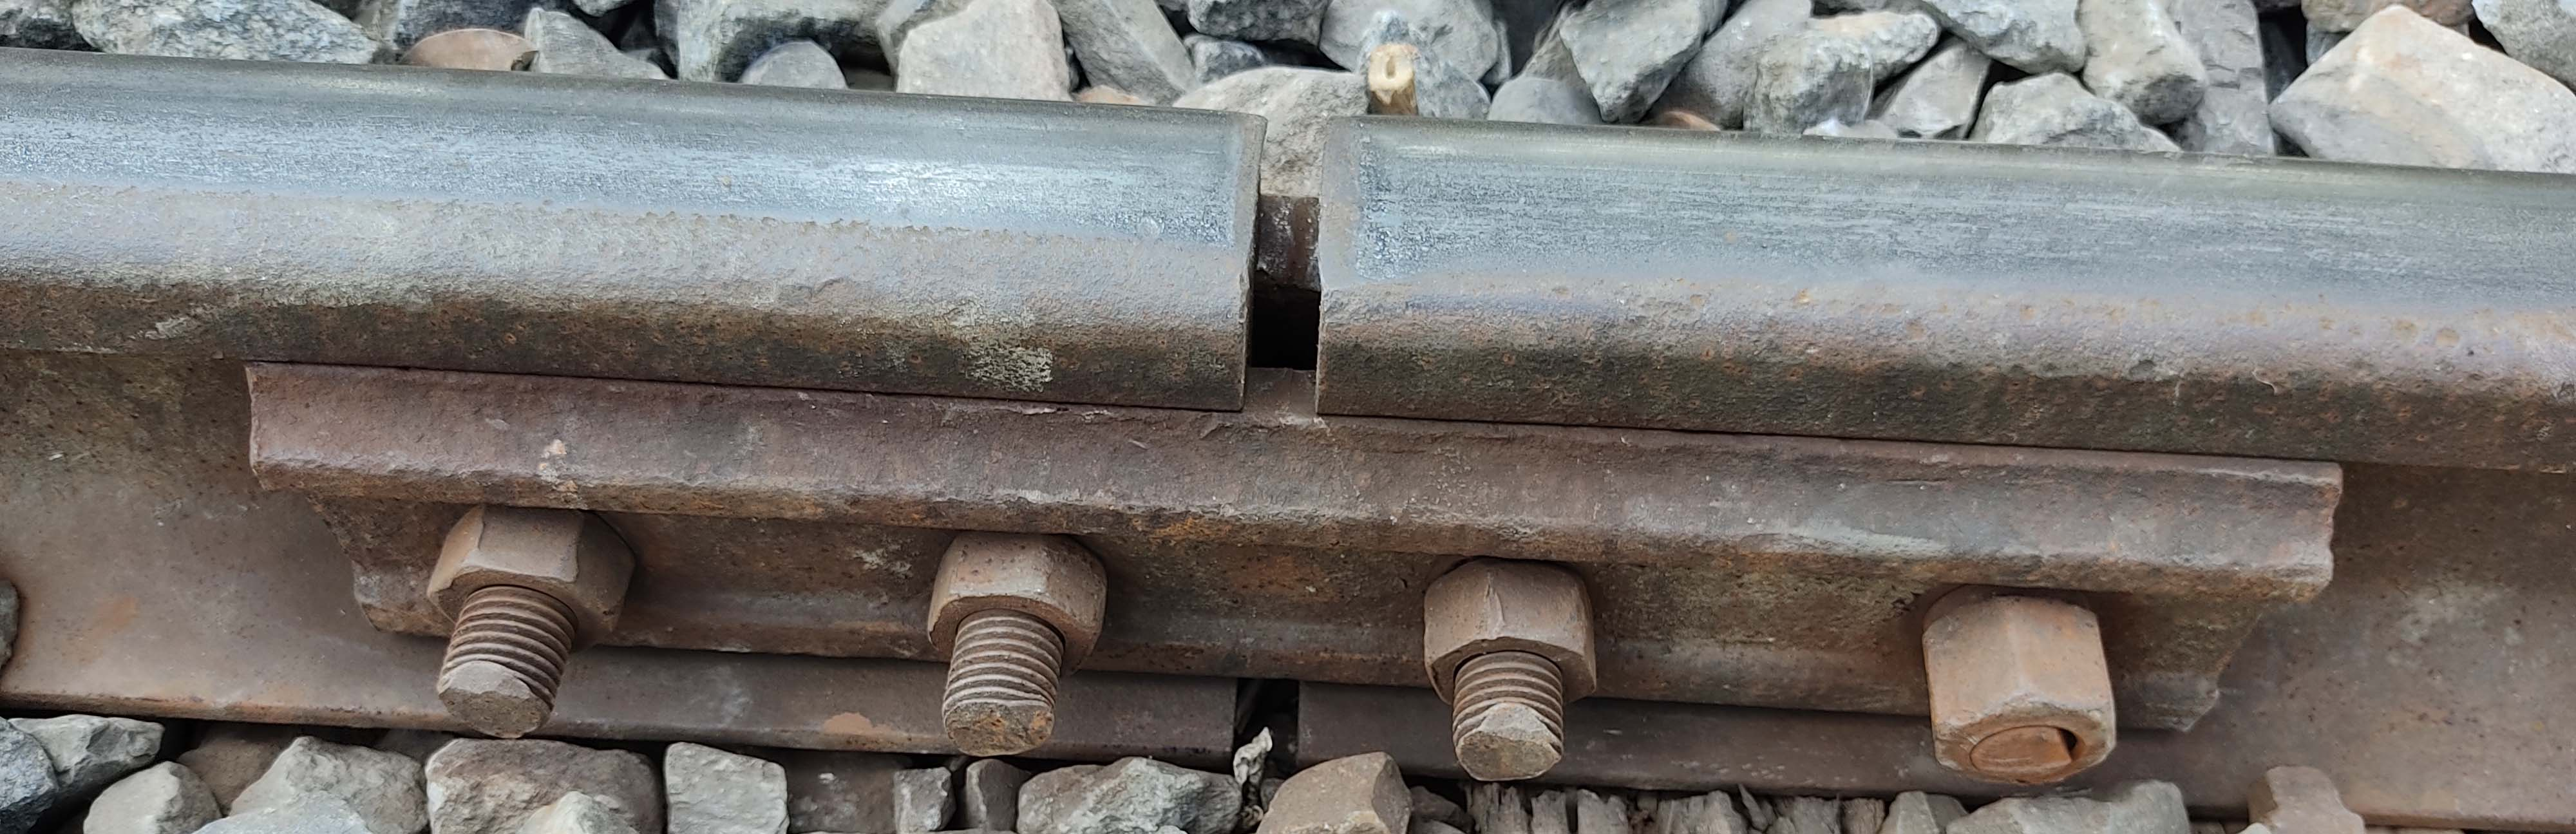error2: (1183, 77, 1391, 466)
